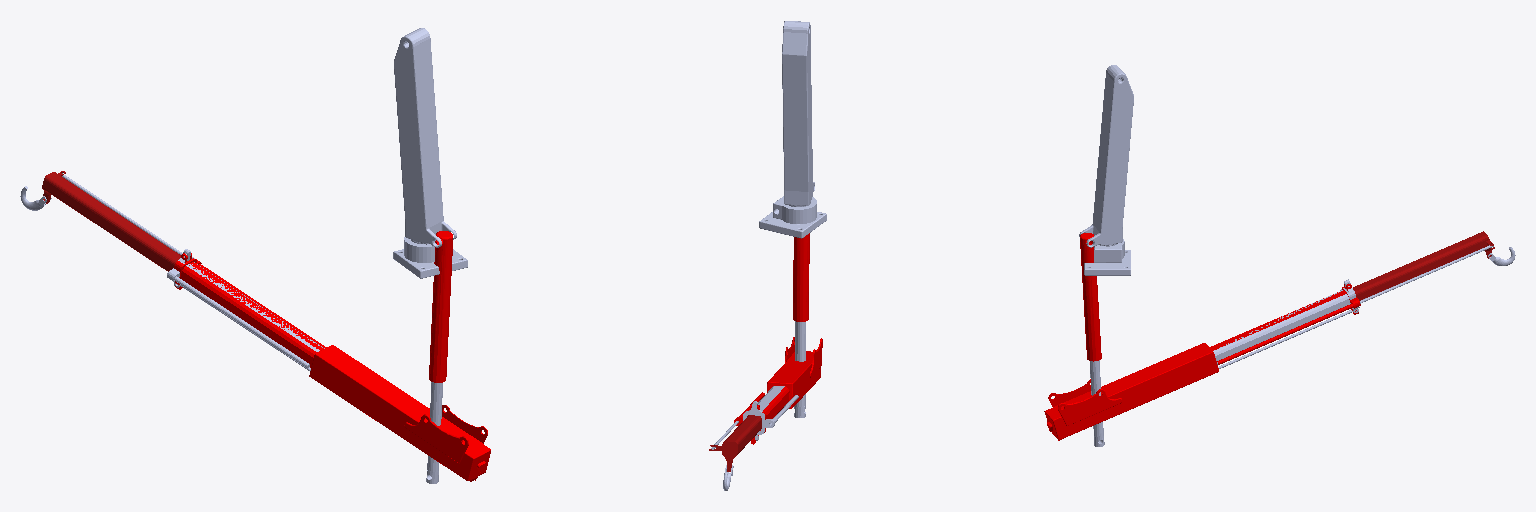
URDF robot description (MAXILIFT):
<?xml version="1.0" encoding="utf-8"?>
<!-- This URDF was automatically created by SolidWorks to URDF Exporter! Originally created by [author] ([email redacted]) 
     Commit Version: 1.5.1-0-g916b5db  Build Version: 1.5.7152.31018
     For more information, please see http://wiki.ros.org/sw_urdf_exporter -->
<robot
  name="MAXILIFT">
  <link
    name="base_link">
    <inertial>
      <origin
        xyz="0.11407738258209 0.0150391052905878 0.369963764835343"
        rpy="0 0 0" />
      <mass
        value="7.62038215171722" />
      <inertia
        ixx="0.0644645456265057"
        ixy="0.00598814958694327"
        ixz="-5.8352096959931E-05"
        iyy="0.100370943555724"
        iyz="8.33184434949025E-09"
        izz="0.065229044638738" />
    </inertial>
    <visual>
      <origin
        xyz="0 0 0"
        rpy="0 0 0" />
      <geometry>
        <mesh
          filename="package://MAXILIFT/meshes/base_link.STL" />
      </geometry>
      <material
        name="">
        <color
          rgba="0.792156862745098 0.819607843137255 0.933333333333333 1" />
      </material>
    </visual>
    <collision>
      <origin
        xyz="0 0 0"
        rpy="0 0 0" />
      <geometry>
        <mesh
          filename="package://MAXILIFT/meshes/base_link.STL" />
      </geometry>
    </collision>
  </link>
  <link
    name="Vertical stand with beas">
    <inertial>
      <origin
        xyz="-0.0387732918568348 0.65718460966268 -2.30966837322377E-09"
        rpy="0 0 0" />
      <mass
        value="254.834380764319" />
      <inertia
        ixx="36.0056397351257"
        ixy="2.77957009849817"
        ixz="7.40295647005951E-09"
        iyy="1.28531486912778"
        iyz="-2.93407314333471E-07"
        izz="36.2286896654805" />
    </inertial>
    <visual>
      <origin
        xyz="0 0 0"
        rpy="0 0 0" />
      <geometry>
        <mesh
          filename="package://MAXILIFT/meshes/Vertical stand with beas.STL" />
      </geometry>
      <material
        name="">
        <color
          rgba="0.792156862745098 0.819607843137255 0.933333333333333 1" />
      </material>
    </visual>
    <collision>
      <origin
        xyz="0 0 0"
        rpy="0 0 0" />
      <geometry>
        <mesh
          filename="package://MAXILIFT/meshes/Vertical stand with beas.STL" />
      </geometry>
    </collision>
  </link>
  <joint
    name="rot1"
    type="revolute">
    <origin
      xyz="0.085308 -0.37046 0.034237"
      rpy="1.5708 0 -1.2041" />
    <parent
      link="base_link" />
    <child
      link="Vertical stand with beas" />
    <axis
      xyz="0 1 0" />
    <limit
      lower="0"
      upper="0"
      effort="0"
      velocity="0" />
  </joint>
  <link
    name="Vertical stand with V_piston">
    <inertial>
      <origin
        xyz="2.3318865388644E-07 0.422270415383065 -2.63032227110216E-08"
        rpy="0 0 0" />
      <mass
        value="3.66379019376401" />
      <inertia
        ixx="0.269331716594928"
        ixy="3.01217927505519E-08"
        ixz="9.63605696763237E-08"
        iyy="0.00671924319284911"
        iyz="-2.17052157475389E-08"
        izz="0.269210879612525" />
    </inertial>
    <visual>
      <origin
        xyz="0 0 0"
        rpy="0 0 0" />
      <geometry>
        <mesh
          filename="package://MAXILIFT/meshes/Vertical stand with V_piston.STL" />
      </geometry>
      <material
        name="">
        <color
          rgba="1 0 0 1" />
      </material>
    </visual>
    <collision>
      <origin
        xyz="0 0 0"
        rpy="0 0 0" />
      <geometry>
        <mesh
          filename="package://MAXILIFT/meshes/Vertical stand with V_piston.STL" />
      </geometry>
    </collision>
  </link>
  <joint
    name="rot 2"
    type="revolute">
    <origin
      xyz="0.14489 0.13172 0"
      rpy="3.0851 -1.5708 0" />
    <parent
      link="Vertical stand with beas" />
    <child
      link="Vertical stand with V_piston" />
    <axis
      xyz="1 0 0" />
    <limit
      lower="0"
      upper="0"
      effort="0"
      velocity="0" />
  </joint>
  <link
    name="V_piston with _ V_rod">
    <inertial>
      <origin
        xyz="-2.06316733142309E-09 0.380978346109326 7.14726577921709E-09"
        rpy="0 0 0" />
      <mass
        value="2.76307095410878" />
      <inertia
        ixx="0.135266919688303"
        ixy="1.41681768026403E-09"
        ixz="-1.2473976712668E-09"
        iyy="0.00161326448106642"
        iyz="-5.84216355297589E-09"
        izz="0.135247618162942" />
    </inertial>
    <visual>
      <origin
        xyz="0 0 0"
        rpy="0 0 0" />
      <geometry>
        <mesh
          filename="package://MAXILIFT/meshes/V_piston with _ V_rod.STL" />
      </geometry>
      <material
        name="">
        <color
          rgba="0.792156862745098 0.819607843137255 0.933333333333333 1" />
      </material>
    </visual>
    <collision>
      <origin
        xyz="0 0 0"
        rpy="0 0 0" />
      <geometry>
        <mesh
          filename="package://MAXILIFT/meshes/V_piston with _ V_rod.STL" />
      </geometry>
    </collision>
  </link>
  <joint
    name=" lin 1"
    type="continuous">
    <origin
      xyz="0 0.38281 0"
      rpy="0 0 0" />
    <parent
      link="Vertical stand with V_piston" />
    <child
      link="V_piston with _ V_rod" />
    <axis
      xyz="0 0.9984 0.056461" />
  </joint>
  <link
    name="V_rod with First level arm">
    <inertial>
      <origin
        xyz="-1.10458461613505E-08 -0.0013807032673816 0.564933698231049"
        rpy="0 0 0" />
      <mass
        value="16.9805251915454" />
      <inertia
        ixx="2.18258315258581"
        ixy="-4.81725956347212E-08"
        ixz="2.32757827907382E-08"
        iyy="2.17823021311207"
        iyz="-0.0240875595149625"
        izz="0.123944017728382" />
    </inertial>
    <visual>
      <origin
        xyz="0 0 0"
        rpy="0 0 0" />
      <geometry>
        <mesh
          filename="package://MAXILIFT/meshes/V_rod with First level arm.STL" />
      </geometry>
      <material
        name="">
        <color
          rgba="1 0 0 1" />
      </material>
    </visual>
    <collision>
      <origin
        xyz="0 0 0"
        rpy="0 0 0" />
      <geometry>
        <mesh
          filename="package://MAXILIFT/meshes/V_rod with First level arm.STL" />
      </geometry>
    </collision>
  </link>
  <joint
    name="rot 3"
    type="revolute">
    <origin
      xyz="0 0.93955 0.33325"
      rpy="-2.9305 0 -3.1416" />
    <parent
      link="V_piston with _ V_rod" />
    <child
      link="V_rod with First level arm" />
    <axis
      xyz="0 0 0" />
    <limit
      lower="0"
      upper="0"
      effort="0"
      velocity="0" />
  </joint>
  <link
    name="Vertical stand with First level arm">
    <inertial>
      <origin
        xyz="-1.10458461058394E-08 -0.0013807032673816 0.564933698231048"
        rpy="0 0 0" />
      <mass
        value="16.9805251915454" />
      <inertia
        ixx="2.18258315258582"
        ixy="-4.81725954404322E-08"
        ixz="2.32757832313579E-08"
        iyy="2.17823021311207"
        iyz="-0.0240875595149626"
        izz="0.123944017728382" />
    </inertial>
    <visual>
      <origin
        xyz="0 0 0"
        rpy="0 0 0" />
      <geometry>
        <mesh
          filename="package://MAXILIFT/meshes/Vertical stand with First level arm.STL" />
      </geometry>
      <material
        name="">
        <color
          rgba="1 0 0 1" />
      </material>
    </visual>
    <collision>
      <origin
        xyz="0 0 0"
        rpy="0 0 0" />
      <geometry>
        <mesh
          filename="package://MAXILIFT/meshes/Vertical stand with First level arm.STL" />
      </geometry>
    </collision>
  </link>
  <joint
    name="rot 4 "
    type="revolute">
    <origin
      xyz="0 1.3224 0.33325"
      rpy="-2.9305 0 -3.1416" />
    <parent
      link="Vertical stand with V_piston" />
    <child
      link="Vertical stand with First level arm" />
    <axis
      xyz="0 0 0" />
    <limit
      lower="0"
      upper="0"
      effort="0"
      velocity="0" />
  </joint>
  <link
    name="with First level arm with H_rod 1">
    <inertial>
      <origin
        xyz="-0.0931801799459544 0.587021892552616 -0.00786332251854832"
        rpy="0 0 0" />
      <mass
        value="5.03365199309053" />
      <inertia
        ixx="0.598236292424871"
        ixy="0.00184896963412509"
        ixz="3.4235697976278E-05"
        iyy="0.0203097339720695"
        iyz="0.00321400282175937"
        izz="0.595493912216817" />
    </inertial>
    <visual>
      <origin
        xyz="0 0 0"
        rpy="0 0 0" />
      <geometry>
        <mesh
          filename="package://MAXILIFT/meshes/with First level arm with H_rod 1.STL" />
      </geometry>
      <material
        name="">
        <color
          rgba="0.792156862745098 0.819607843137255 0.933333333333333 1" />
      </material>
    </visual>
    <collision>
      <origin
        xyz="0 0 0"
        rpy="0 0 0" />
      <geometry>
        <mesh
          filename="package://MAXILIFT/meshes/with First level arm with H_rod 1.STL" />
      </geometry>
    </collision>
  </link>
  <joint
    name="lin 2"
    type="continuous">
    <origin
      xyz="0 0.0985 1.1678"
      rpy="1.5708 0 1.5708" />
    <parent
      link="Vertical stand with First level arm" />
    <child
      link="with First level arm with H_rod 1" />
    <axis
      xyz="0 1 0" />
    <limit
      lower="-1"
      upper="0"
      effort="0"
      velocity="0" />
  </joint>
  <link
    name="H_rod with 2 First level arm">
    <inertial>
      <origin
        xyz="0.605322024472593 -0.0083759328527433 -0.000754591032865237"
        rpy="0 0 0" />
      <mass
        value="4.72559099416961" />
      <inertia
        ixx="0.0202958149305245"
        ixy="0.00321400451244405"
        ixz="0.00184897116063022"
        iyy="0.565146065709871"
        iyz="3.42356399018438E-05"
        izz="0.567888481715816" />
    </inertial>
    <visual>
      <origin
        xyz="0 0 0"
        rpy="0 0 0" />
      <geometry>
        <mesh
          filename="package://MAXILIFT/meshes/H_rod with 2 First level arm.STL" />
      </geometry>
      <material
        name="">
        <color
          rgba="1 0 0 1" />
      </material>
    </visual>
    <collision>
      <origin
        xyz="0 0 0"
        rpy="0 0 0" />
      <geometry>
        <mesh
          filename="package://MAXILIFT/meshes/H_rod with 2 First level arm.STL" />
      </geometry>
    </collision>
  </link>
  <joint
    name="lin 5"
    type="continuous">
    <origin
      xyz="-0.0985 -0.014294 0"
      rpy="1.5708 0 1.5708" />
    <parent
      link="with First level arm with H_rod 1" />
    <child
      link="H_rod with 2 First level arm" />
    <axis
      xyz="0 0 0" />
  </joint>
  <link
    name="with First level arm with 2 level arm">
    <inertial>
      <origin
        xyz="0.605322024472596 -0.0083759328527433 -0.000754591032865459"
        rpy="0 0 0" />
      <mass
        value="4.7255909941696" />
      <inertia
        ixx="0.0202958149305246"
        ixy="0.00321400451244474"
        ixz="0.00184897116063037"
        iyy="0.565146065709873"
        iyz="3.42356399018855E-05"
        izz="0.567888481715818" />
    </inertial>
    <visual>
      <origin
        xyz="0 0 0"
        rpy="0 0 0" />
      <geometry>
        <mesh
          filename="package://MAXILIFT/meshes/with First level arm with 2 level arm.STL" />
      </geometry>
      <material
        name="">
        <color
          rgba="1 0 0 1" />
      </material>
    </visual>
    <collision>
      <origin
        xyz="0 0 0"
        rpy="0 0 0" />
      <geometry>
        <mesh
          filename="package://MAXILIFT/meshes/with First level arm with 2 level arm.STL" />
      </geometry>
    </collision>
  </link>
  <joint
    name="lin3"
    type="continuous">
    <origin
      xyz="0 0 1.1535"
      rpy="1.5708 -1.5708 0" />
    <parent
      link="Vertical stand with First level arm" />
    <child
      link="with First level arm with 2 level arm" />
    <axis
      xyz="0 0 0" />
  </joint>
  <link
    name="2 level arm with H_rod 2">
    <inertial>
      <origin
        xyz="-5.28709633851321E-08 0.473238235488486 -1.55914479105235E-08"
        rpy="0 0 0" />
      <mass
        value="0.308440194023462" />
      <inertia
        ixx="0.0304589076111692"
        ixy="6.87591625956708E-09"
        ixz="6.4868018725614E-11"
        iyy="1.39377992666822E-05"
        iyz="2.2148334627778E-09"
        izz="0.0304589465374647" />
    </inertial>
    <visual>
      <origin
        xyz="0 0 0"
        rpy="0 0 0" />
      <geometry>
        <mesh
          filename="package://MAXILIFT/meshes/2 level arm with H_rod 2.STL" />
      </geometry>
      <material
        name="">
        <color
          rgba="0.792156862745098 0.819607843137255 0.933333333333333 1" />
      </material>
    </visual>
    <collision>
      <origin
        xyz="0 0 0"
        rpy="0 0 0" />
      <geometry>
        <mesh
          filename="package://MAXILIFT/meshes/2 level arm with H_rod 2.STL" />
      </geometry>
    </collision>
  </link>
  <joint
    name="lin 5"
    type="continuous">
    <origin
      xyz="1.0698 -0.1062 0"
      rpy="3.1416 0 1.5708" />
    <parent
      link="with First level arm with 2 level arm" />
    <child
      link="2 level arm with H_rod 2" />
    <axis
      xyz="0 1 0" />
    <limit
      lower="-0.949"
      upper="0"
      effort="0"
      velocity="0" />
  </joint>
  <link
    name="H-rod 2 with 2 level arm">
    <inertial>
      <origin
        xyz="0.558002375272954 -0.000898725132921996 0.000106213561132829"
        rpy="0 0 0" />
      <mass
        value="10.0005340407947" />
      <inertia
        ixx="0.01547220448355"
        ixy="0.00470984559889654"
        ixz="-0.00163602543594855"
        iyy="1.0427878679906"
        iyz="-9.59045414250514E-07"
        izz="1.04338216018405" />
    </inertial>
    <visual>
      <origin
        xyz="0 0 0"
        rpy="0 0 0" />
      <geometry>
        <mesh
          filename="package://MAXILIFT/meshes/H-rod 2 with 2 level arm.STL" />
      </geometry>
      <material
        name="">
        <color
          rgba="0.694117647058824 0.0980392156862745 0.0980392156862745 1" />
      </material>
    </visual>
    <collision>
      <origin
        xyz="0 0 0"
        rpy="0 0 0" />
      <geometry>
        <mesh
          filename="package://MAXILIFT/meshes/H-rod 2 with 2 level arm.STL" />
      </geometry>
    </collision>
  </link>
  <joint
    name="lin7"
    type="continuous">
    <origin
      xyz="0.1062 -0.073292 0"
      rpy="-1.5708 0 1.5708" />
    <parent
      link="2 level arm with H_rod 2" />
    <child
      link="H-rod 2 with 2 level arm" />
    <axis
      xyz="0 0 0" />
  </joint>
  <link
    name="2 level arm with 3level arm">
    <inertial>
      <origin
        xyz="0.558002375272959 -0.000898725132921552 0.000106213561132273"
        rpy="0 0 0" />
      <mass
        value="10.0005340407947" />
      <inertia
        ixx="0.0154722044835498"
        ixy="0.0047098455988957"
        ixz="-0.00163602543594822"
        iyy="1.04278786799059"
        iyz="-9.59045414271331E-07"
        izz="1.04338216018404" />
    </inertial>
    <visual>
      <origin
        xyz="0 0 0"
        rpy="0 0 0" />
      <geometry>
        <mesh
          filename="package://MAXILIFT/meshes/2 level arm with 3level arm.STL" />
      </geometry>
      <material
        name="">
        <color
          rgba="0.694117647058824 0.0980392156862745 0.0980392156862745 1" />
      </material>
    </visual>
    <collision>
      <origin
        xyz="0 0 0"
        rpy="0 0 0" />
      <geometry>
        <mesh
          filename="package://MAXILIFT/meshes/2 level arm with 3level arm.STL" />
      </geometry>
    </collision>
  </link>
  <joint
    name="lin6"
    type="continuous">
    <origin
      xyz="0.9965 0 0"
      rpy="1.5708 0 0" />
    <parent
      link="with First level arm with 2 level arm" />
    <child
      link="2 level arm with 3level arm" />
    <axis
      xyz="0 0 0" />
  </joint>
  <link
    name="3  level arm with hook">
    <inertial>
      <origin
        xyz="0.0402400456416623 -0.0967879498833805 -5.78917880909025E-05"
        rpy="0 0 0" />
      <mass
        value="0.264834723337005" />
      <inertia
        ixx="0.000487667739325346"
        ixy="0.000274708960386294"
        ixz="-7.81961840354384E-07"
        iyy="0.000525138802079056"
        iyz="-7.80562268489529E-07"
        izz="0.000966801609865548" />
    </inertial>
    <visual>
      <origin
        xyz="0 0 0"
        rpy="0 0 0" />
      <geometry>
        <mesh
          filename="package://MAXILIFT/meshes/3  level arm with hook.STL" />
      </geometry>
      <material
        name="">
        <color
          rgba="0.792156862745098 0.819607843137255 0.933333333333333 1" />
      </material>
    </visual>
    <collision>
      <origin
        xyz="0 0 0"
        rpy="0 0 0" />
      <geometry>
        <mesh
          filename="package://MAXILIFT/meshes/3  level arm with hook.STL" />
      </geometry>
    </collision>
  </link>
  <joint
    name="rot 7"
    type="revolute">
    <origin
      xyz="1.0825 -0.119 0"
      rpy="0 0 0.40305" />
    <parent
      link="2 level arm with 3level arm" />
    <child
      link="3  level arm with hook" />
    <axis
      xyz="0 0 1" />
    <limit
      lower="0"
      upper="0"
      effort="0"
      velocity="0" />
  </joint>
</robot>

--- What the picture shows (computed from the rendered views, not written in the file) ---
The picture shows the robot from 3 angles, left to right: view 1: azimuth 30°, elevation 25°; view 2: azimuth 150°, elevation 25°; view 3: azimuth 270°, elevation 25°; orthographic projection.
Model MAXILIFT with 13 links and 12 joints (5 revolute, 7 continuous), rooted at base_link, posed all joints at 0.
Visible links, largest first — view 1: V_rod with First level arm, Vertical stand with beas, with First level arm with 2 level arm, 2 level arm with 3level arm, Vertical stand with V_piston, with First level arm with H_rod 1, base_link, V_piston with _ V_rod; view 2: Vertical stand with beas, V_rod with First level arm, base_link, Vertical stand with V_piston, 2 level arm with 3level arm, with First level arm with H_rod 1, V_piston with _ V_rod, with First level arm with 2 level arm; view 3: V_rod with First level arm, Vertical stand with beas, with First level arm with H_rod 1, 2 level arm with 3level arm, Vertical stand with V_piston, with First level arm with 2 level arm, base_link, V_piston with _ V_rod.
Boxes of the visible links, x1,y1,x2,y2 form: V_rod with First level arm: (309,345,490,481); Vertical stand with beas: (394,28,456,247); with First level arm with 2 level arm: (174,253,326,367); 2 level arm with 3level arm: (42,171,180,271); Vertical stand with V_piston: (429,231,452,382); with First level arm with H_rod 1: (167,249,324,370); base_link: (393,237,467,278); V_piston with _ V_rod: (426,382,442,483); Vertical stand with beas: (782,21,814,206); V_rod with First level arm: (767,337,822,408); base_link: (759,196,826,238); Vertical stand with V_piston: (793,233,809,321); 2 level arm with 3level arm: (709,415,761,471); with First level arm with H_rod 1: (743,386,798,440); V_piston with _ V_rod: (794,321,805,417); with First level arm with 2 level arm: (734,386,789,444); V_rod with First level arm: (1044,343,1218,440); Vertical stand with beas: (1079,65,1133,247); with First level arm with H_rod 1: (1213,279,1359,368); 2 level arm with 3level arm: (1353,231,1494,300); Vertical stand with V_piston: (1080,233,1101,361); with First level arm with 2 level arm: (1210,284,1360,364); base_link: (1084,239,1130,275); V_piston with _ V_rod: (1090,360,1104,446).
Size in the robot's own frame: 1.28 by 3.16 by 2.76 metres.
10 mesh visuals loaded from 13 distinct referenced files (10 binary STL); not drawn: 3 (reference not matched to a file when rendering).